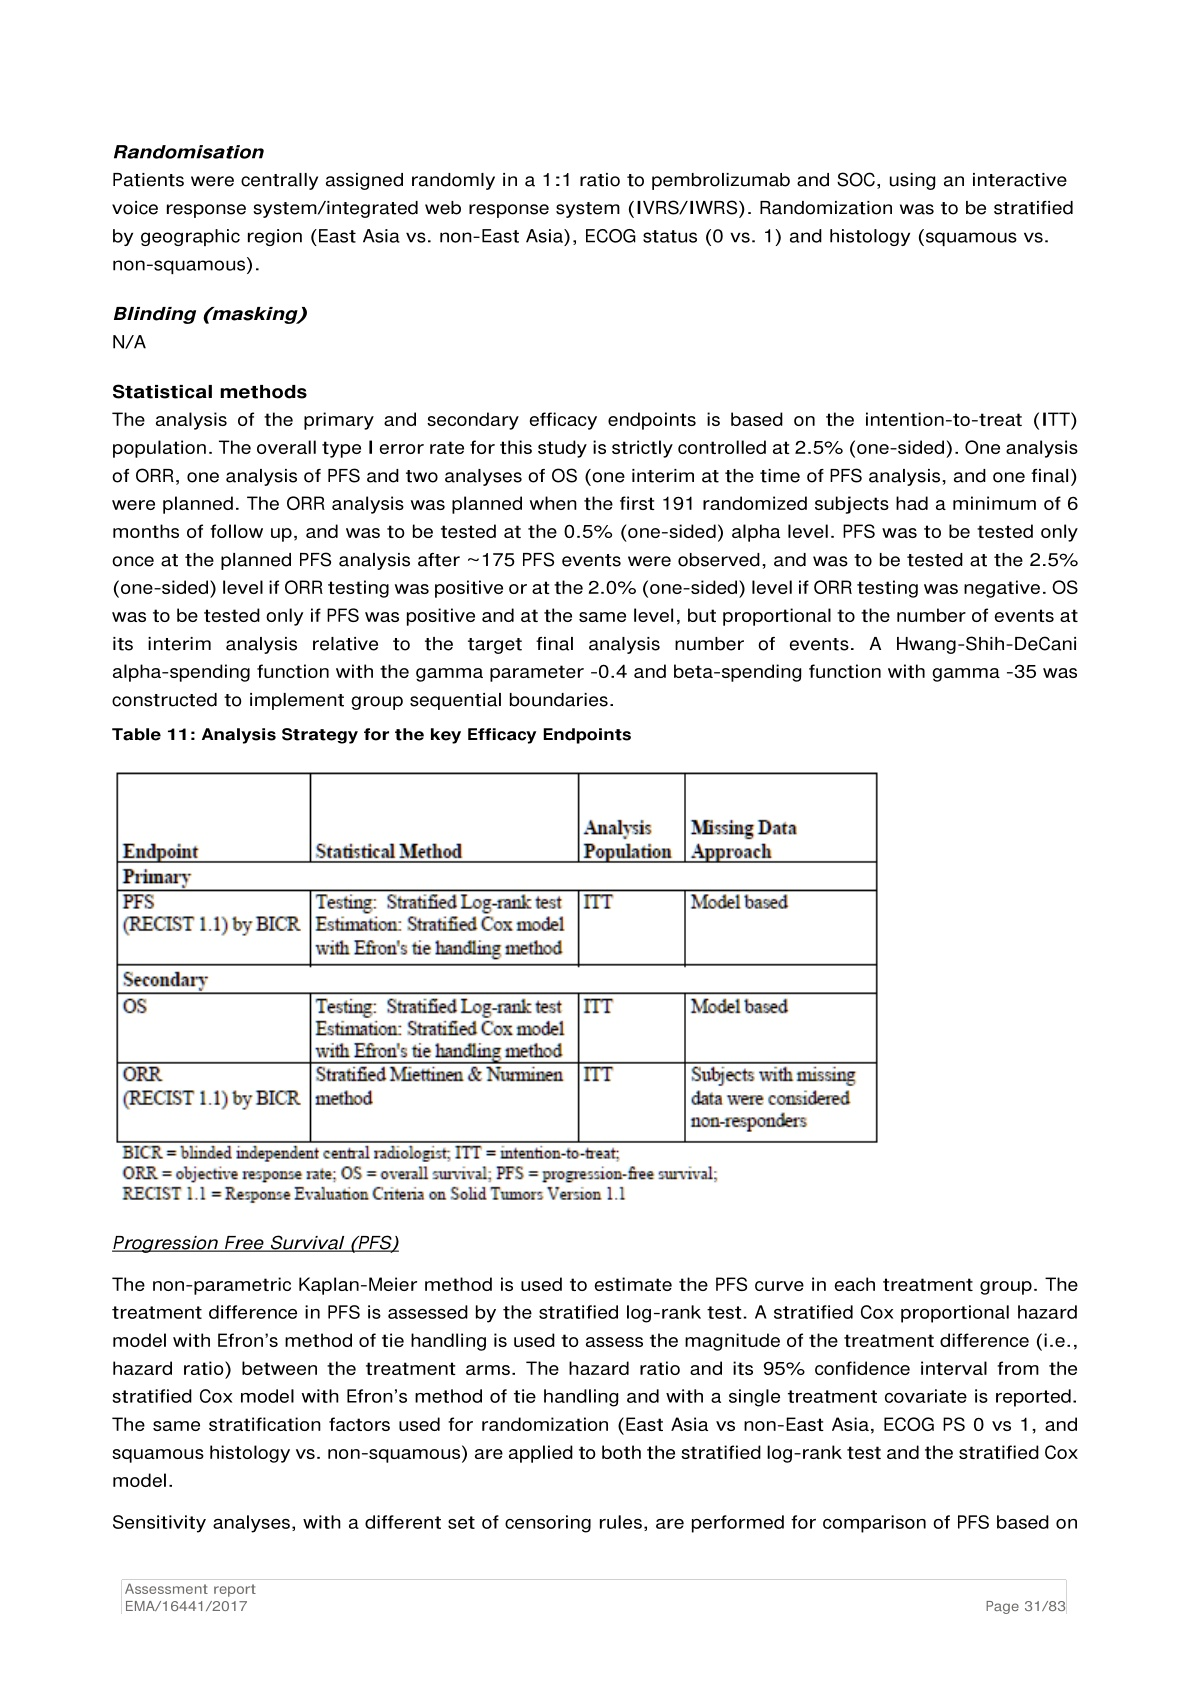merged_cells: (116, 771, 878, 1144)
